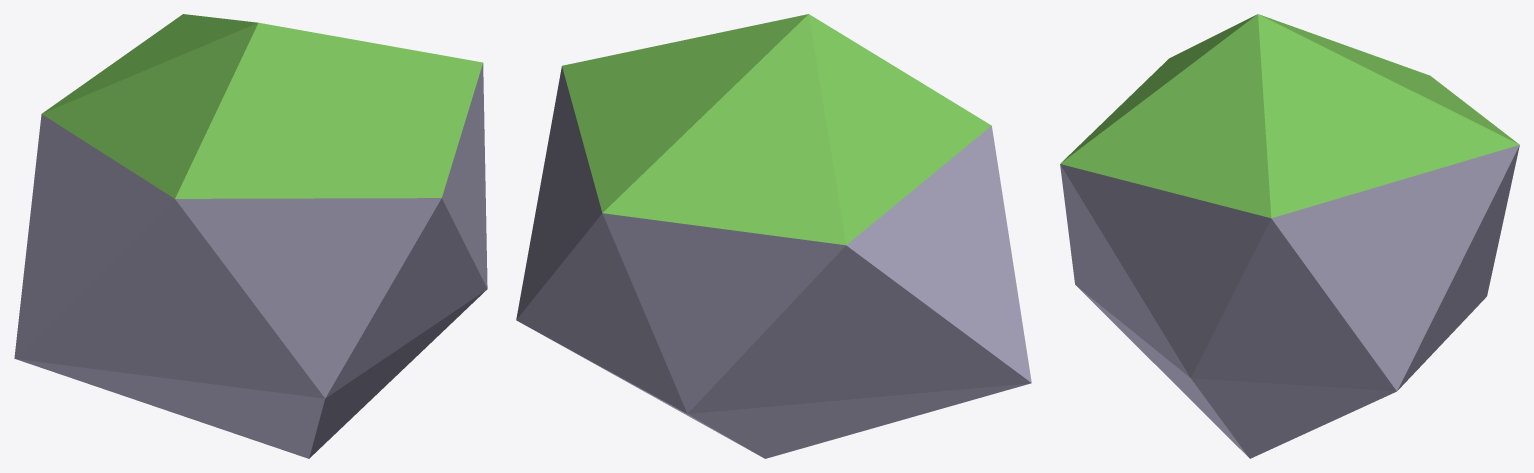
Rendered from rock_a.glb.
3 renders of one model, left to right at view 1: azimuth 30°, elevation 25°; view 2: azimuth 150°, elevation 25°; view 3: azimuth 270°, elevation 25°, orthographic. The views are drawn at different scales.
Visible parts, largest first — view 1: rock_a; view 2: rock_a; view 3: rock_a.
Boxes of the visible parts, <box> form: rock_a: <box>14,14,487,458</box>; rock_a: <box>516,14,1031,458</box>; rock_a: <box>1060,14,1519,458</box>.
Size of the model in its own units: 1.59 by 1.47 by 1.44.
